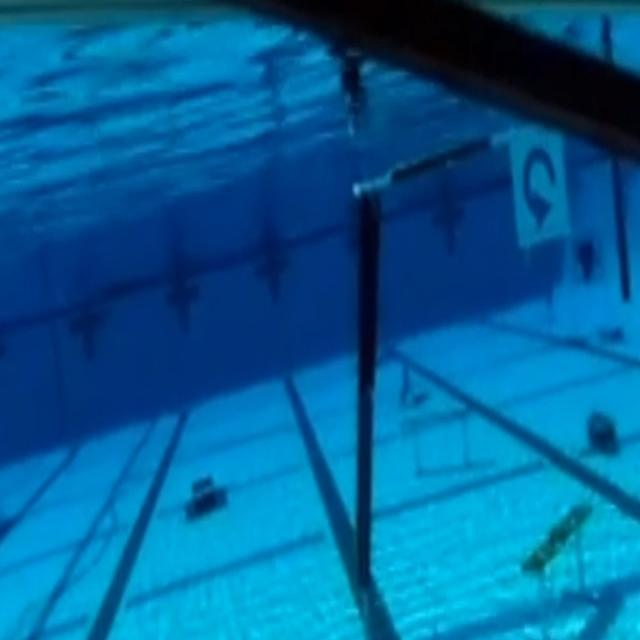Gate: (326, 101, 639, 608)
